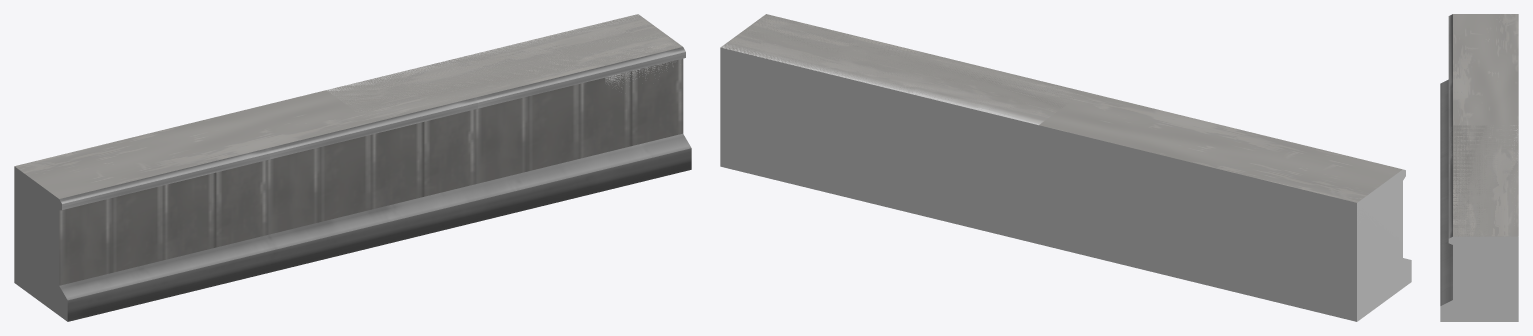
File: frontpanels.fbx
3 views of the same model, side by side, from view 1: azimuth 30°, elevation 25°; view 2: azimuth 150°, elevation 25°; view 3: azimuth 270°, elevation 25° (orthographic). The views are drawn at different scales.
Visible parts, largest first — view 1: 2L, 1I, Cube; view 2: 2L, 1I, Cube; view 3: 2L, 1I, Cube.
Part boxes in pixels (x1,y1,x2,y2): 2L: [14, 14, 691, 321]; 1I: [326, 14, 691, 244]; Cube: [587, 32, 682, 87]; 2L: [720, 14, 1411, 321]; 1I: [720, 15, 1077, 243]; Cube: [720, 14, 844, 185]; 2L: [1440, 14, 1518, 321]; 1I: [1440, 125, 1518, 305]; Cube: [1453, 209, 1518, 321].
Bounding box in the file's own units: 200 × 35.74 × 29.65.
